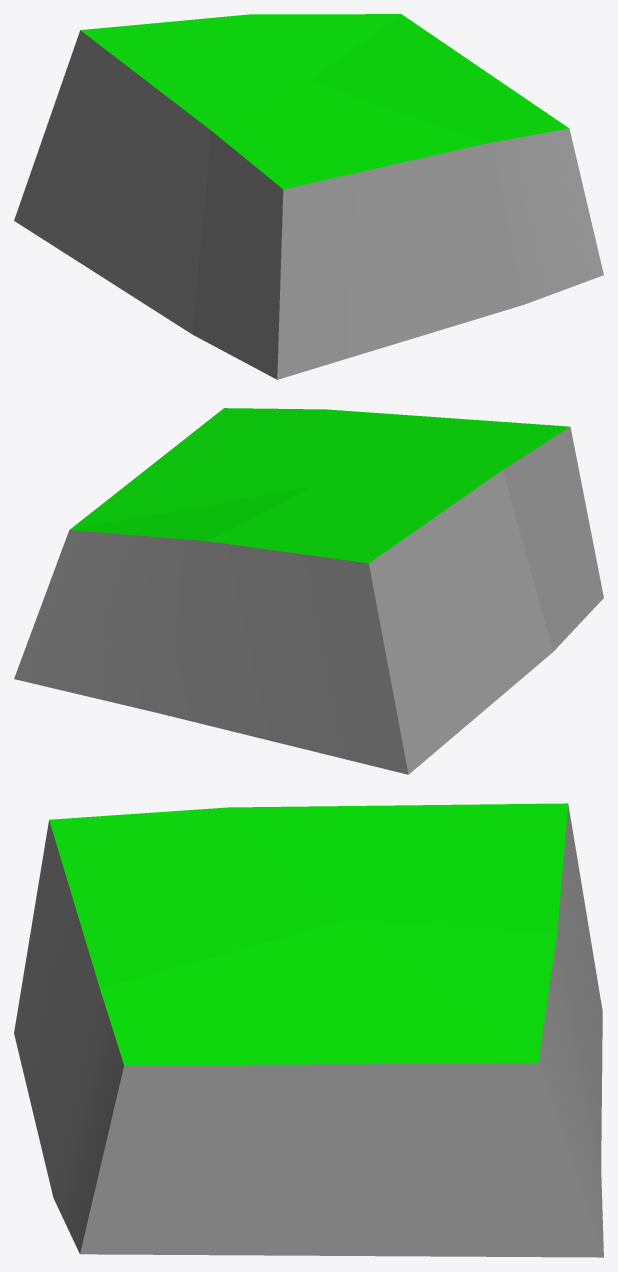
The model's file is rock_gen_mini_B.fbx.
The picture shows the model from 3 angles, top to bottom: view 1: azimuth 30°, elevation 25°; view 2: azimuth 150°, elevation 25°; view 3: azimuth 270°, elevation 25°; orthographic projection. The views are drawn at different scales.
Visible parts, largest first — view 1: rock_gen_mini_B; view 2: rock_gen_mini_B; view 3: rock_gen_mini_B.
Boxes of the visible parts, <box> form: rock_gen_mini_B: <box>14,14,603,379</box>; rock_gen_mini_B: <box>14,408,603,774</box>; rock_gen_mini_B: <box>14,803,603,1257</box>.
Bounding box in the file's own units: 9.04 × 4.13 × 9.16.
